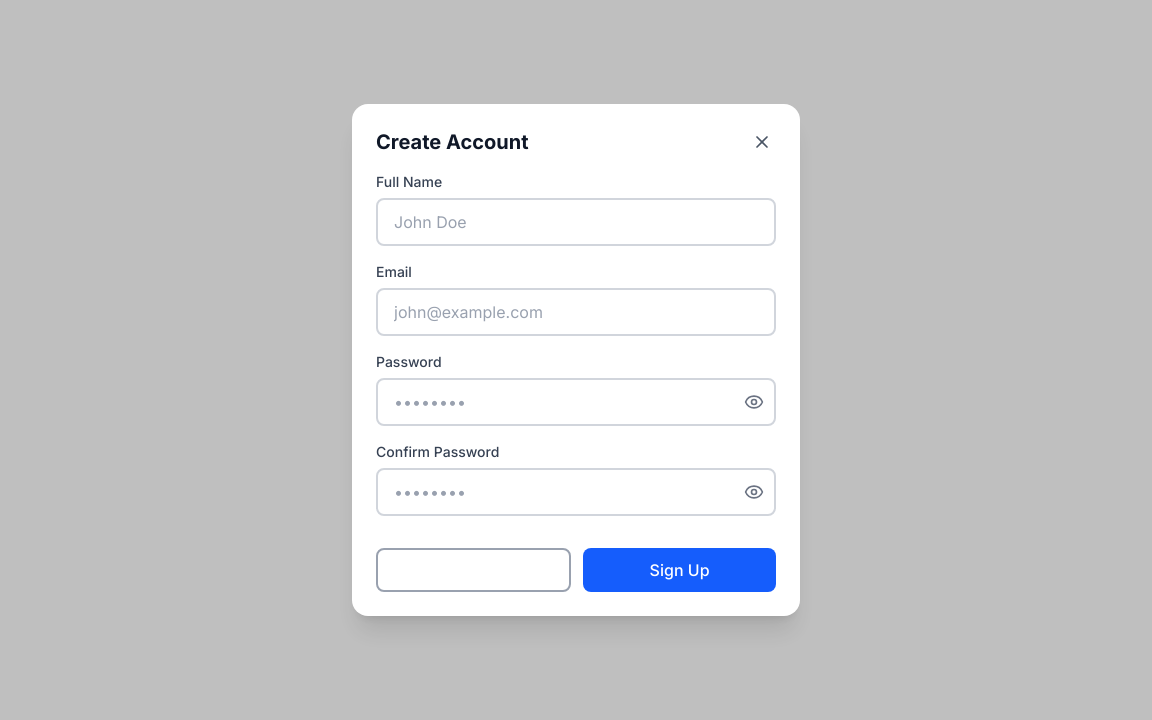
SignUpFormModal › should show error for name with only 1 character
The image size is (1152, 720).
In the field with placeholder "John Doe": (576, 222) [376,198,776,246], type "A"
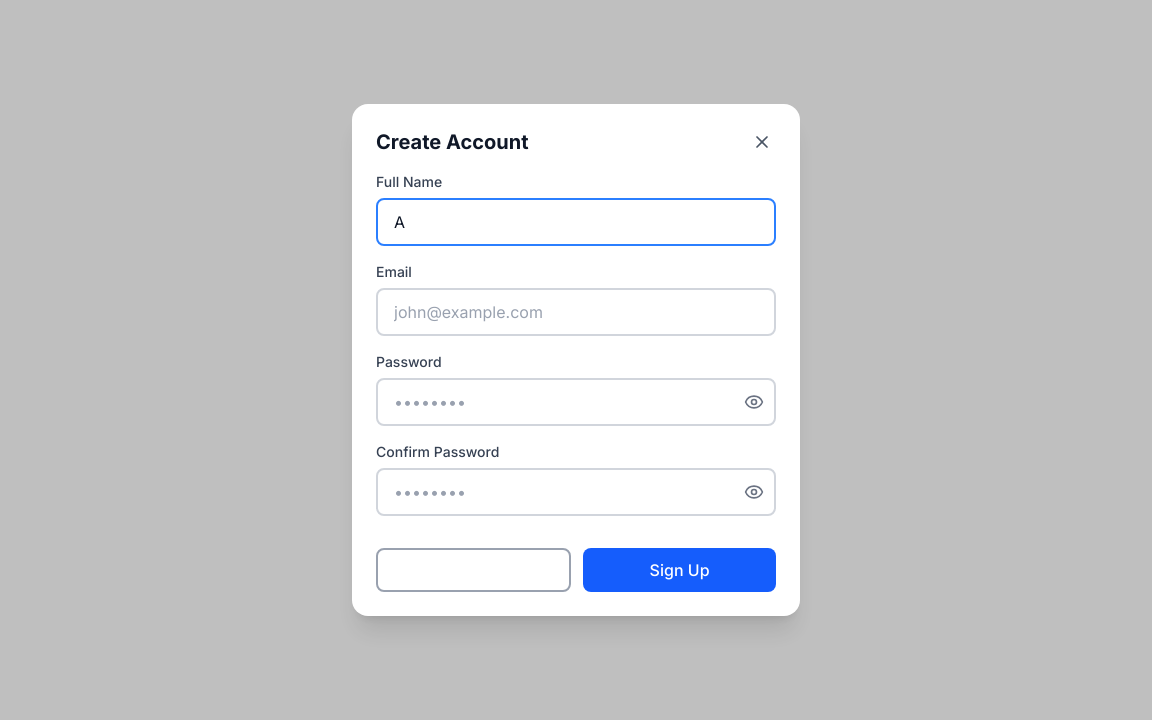
Submit the form, box [376,172,776,592]
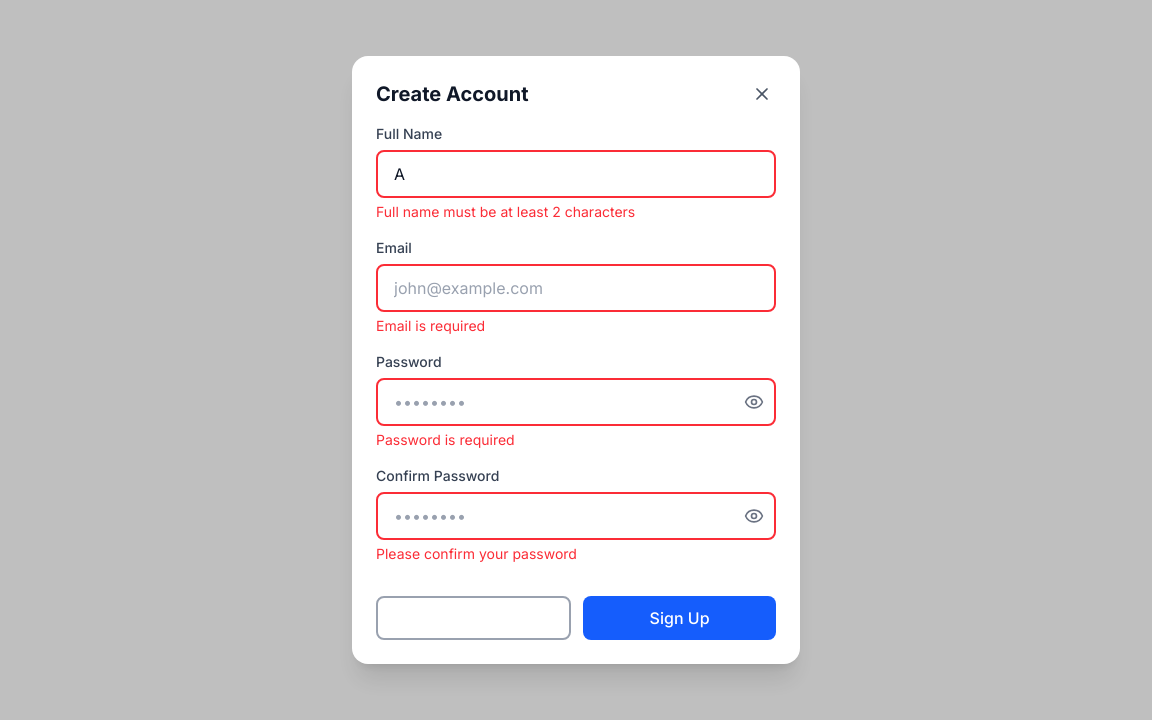
expect the text "Full name must be at least 2 characters" is shown: met, box [376,203,635,220]
